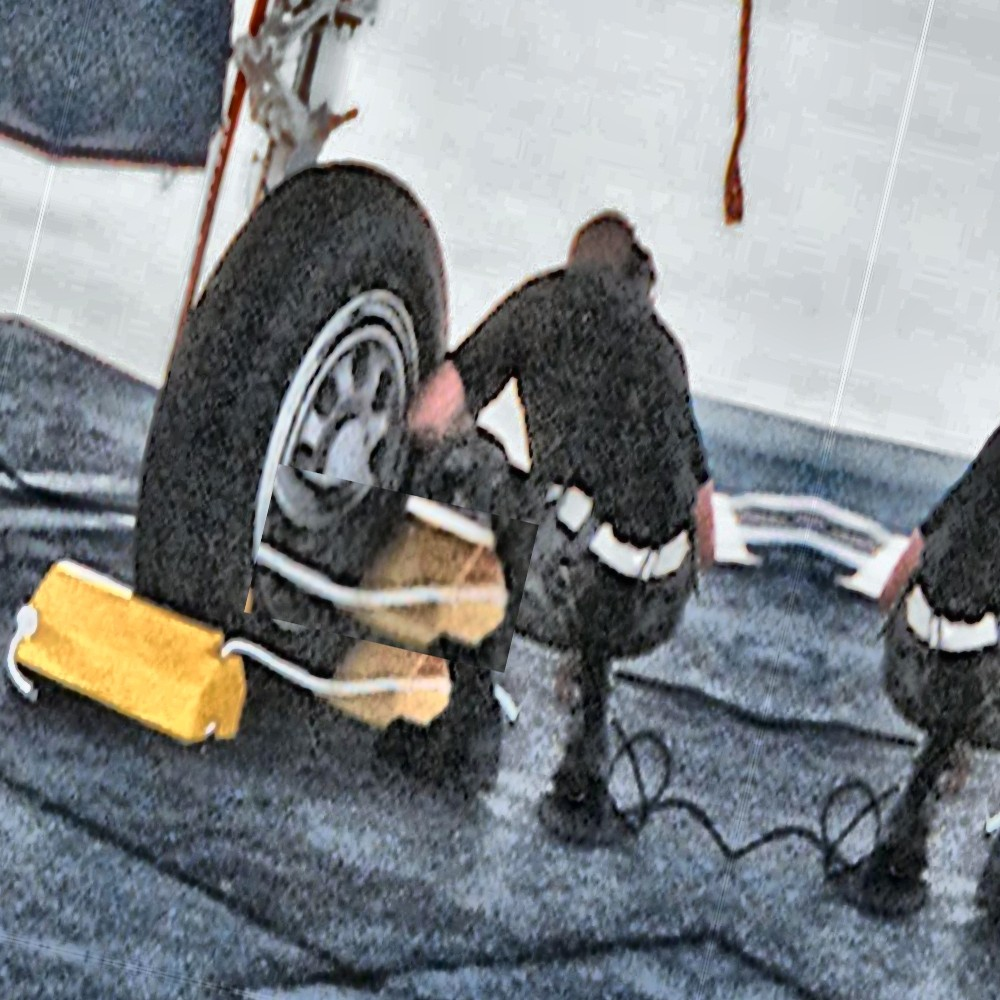chock: (244, 464, 539, 673), (0, 549, 270, 765), (240, 580, 476, 748)
wheel: (106, 131, 494, 697)
